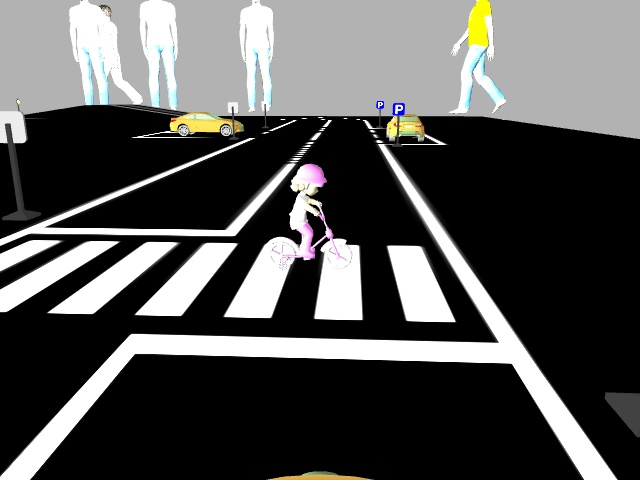Parking: (391, 98, 407, 117), (374, 98, 388, 110)
Pedestrian: (260, 163, 360, 272)
